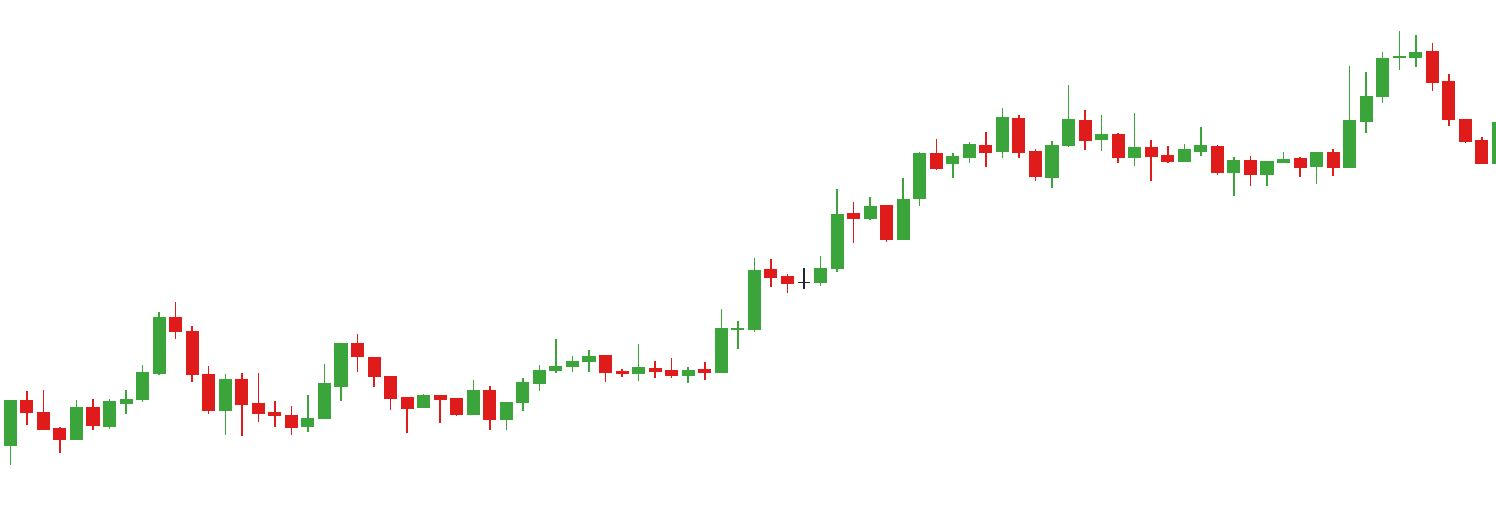sell: (1058, 31, 1457, 151)
